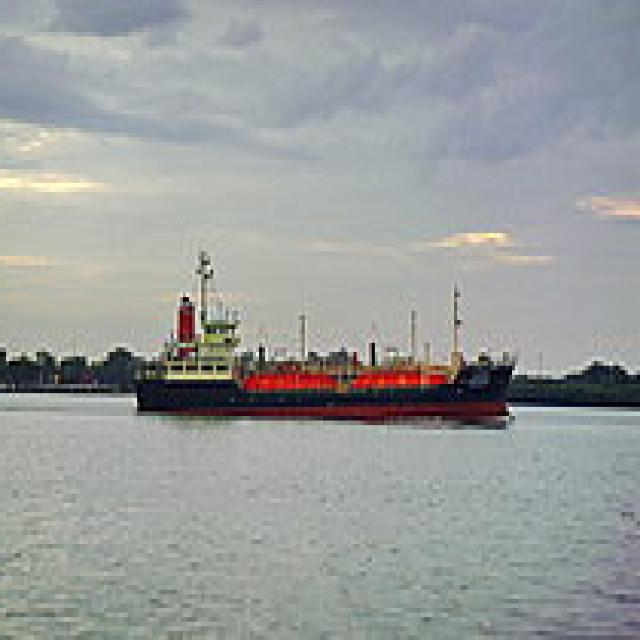Tanker: (131, 233, 524, 425)
